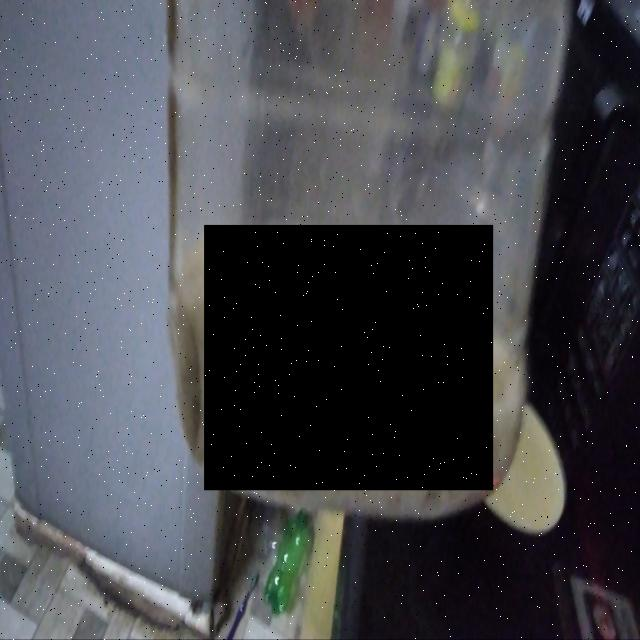Beaten_Rice: (204, 225, 493, 491)
